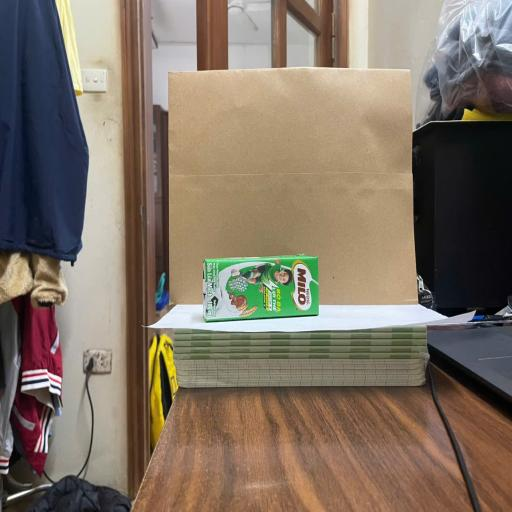milo: (203, 254, 319, 320)
